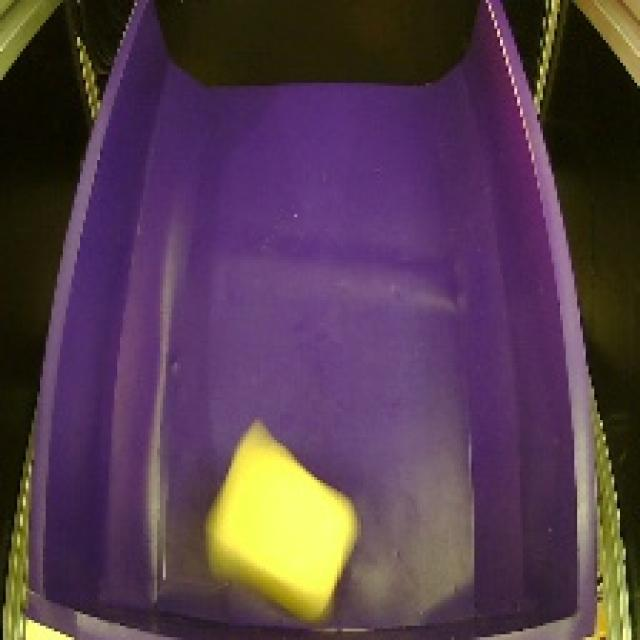potato: (186, 417, 364, 622)
